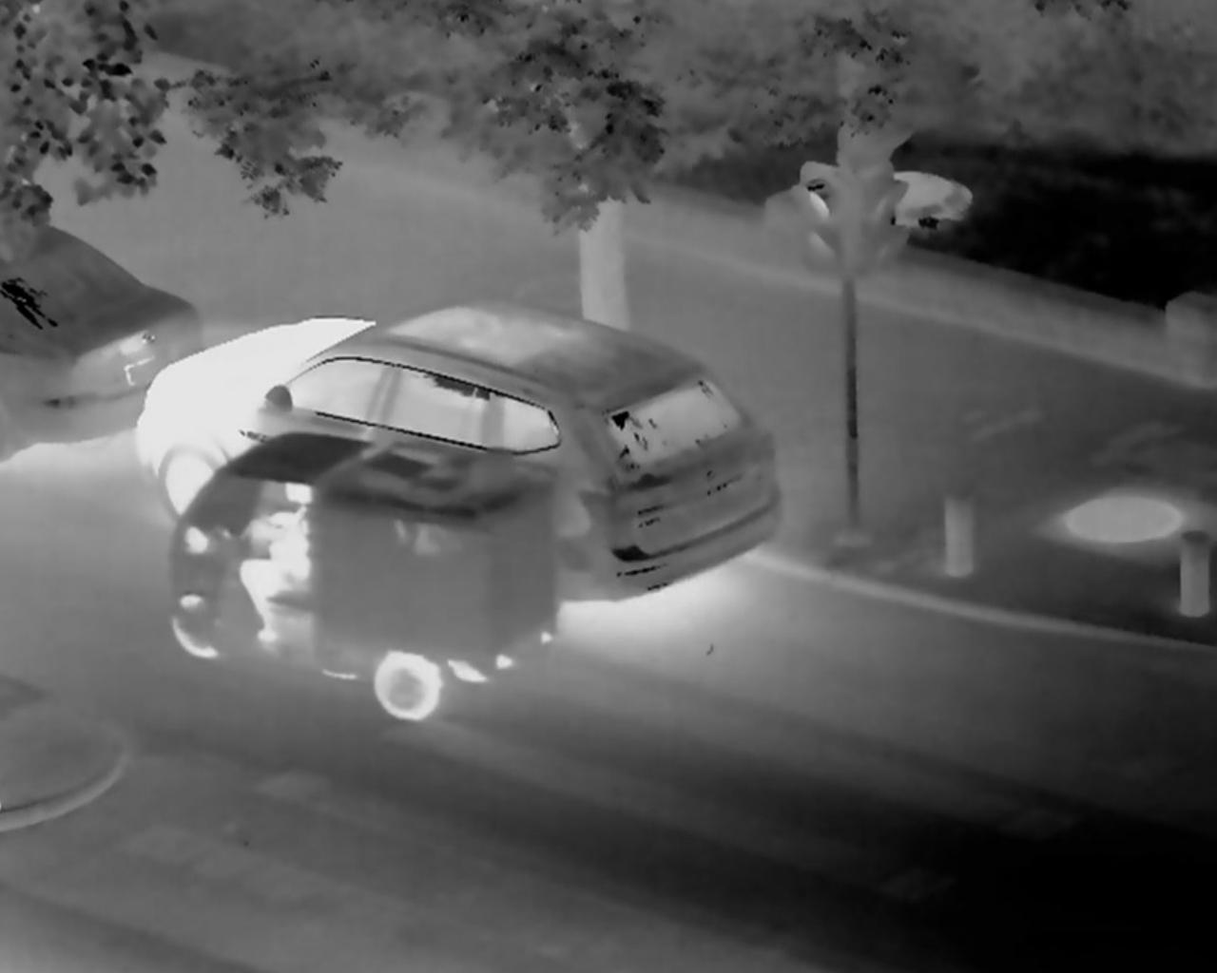person: (251, 472, 359, 679)
